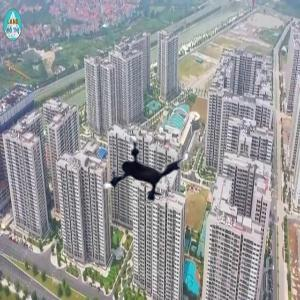drone: (90, 111, 198, 219)
